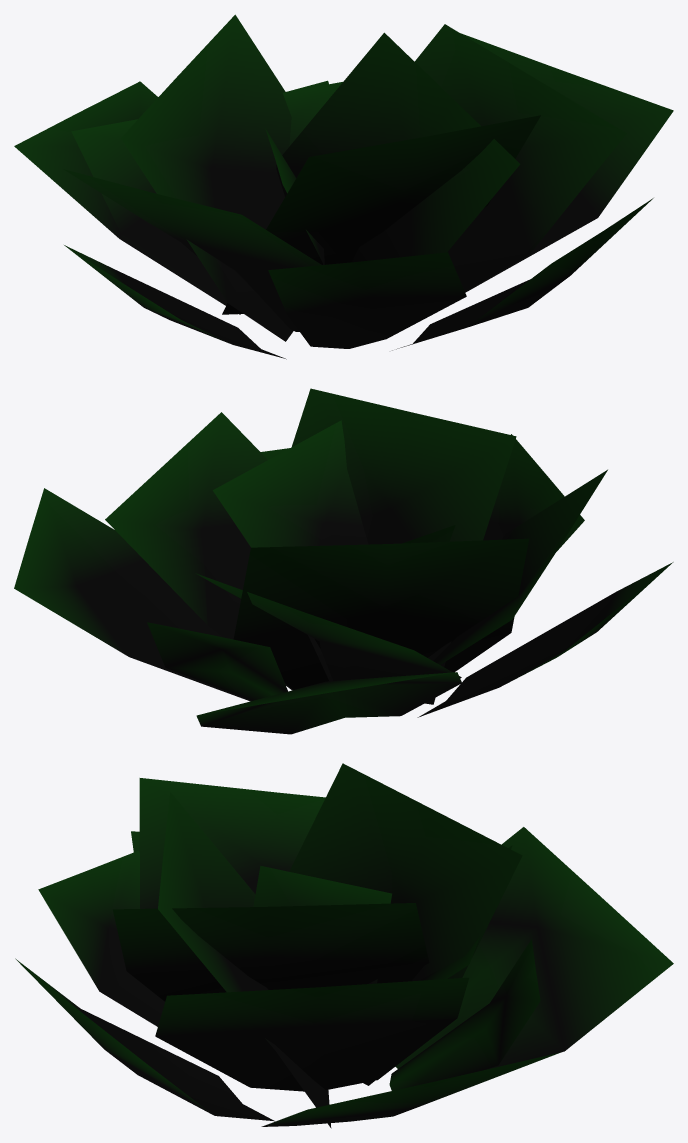
File: SimpleGrassShotRHEP.fbx
The picture shows the model from 3 angles, top to bottom: view 1: azimuth 30°, elevation 25°; view 2: azimuth 150°, elevation 25°; view 3: azimuth 270°, elevation 25°; orthographic projection. The views are drawn at different scales.
Parts seen in each view (by area): view 1: SGSRHEP_LOD0; view 2: SGSRHEP_LOD0; view 3: SGSRHEP_LOD0.
Part boxes in pixels (x1,y1,x2,y2): SGSRHEP_LOD0: (14,14,673,359); SGSRHEP_LOD0: (14,388,673,734); SGSRHEP_LOD0: (15,763,673,1128).
Size of what is drawn, in the model's own units: 2.27 by 0.9383 by 2.26.
